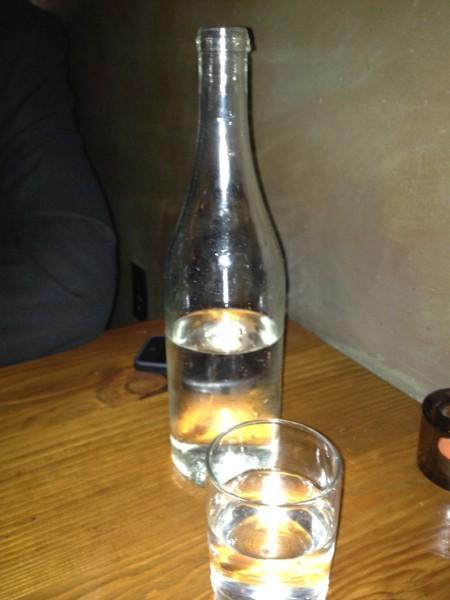bottle: (160, 24, 297, 494)
person: (1, 3, 118, 364)
